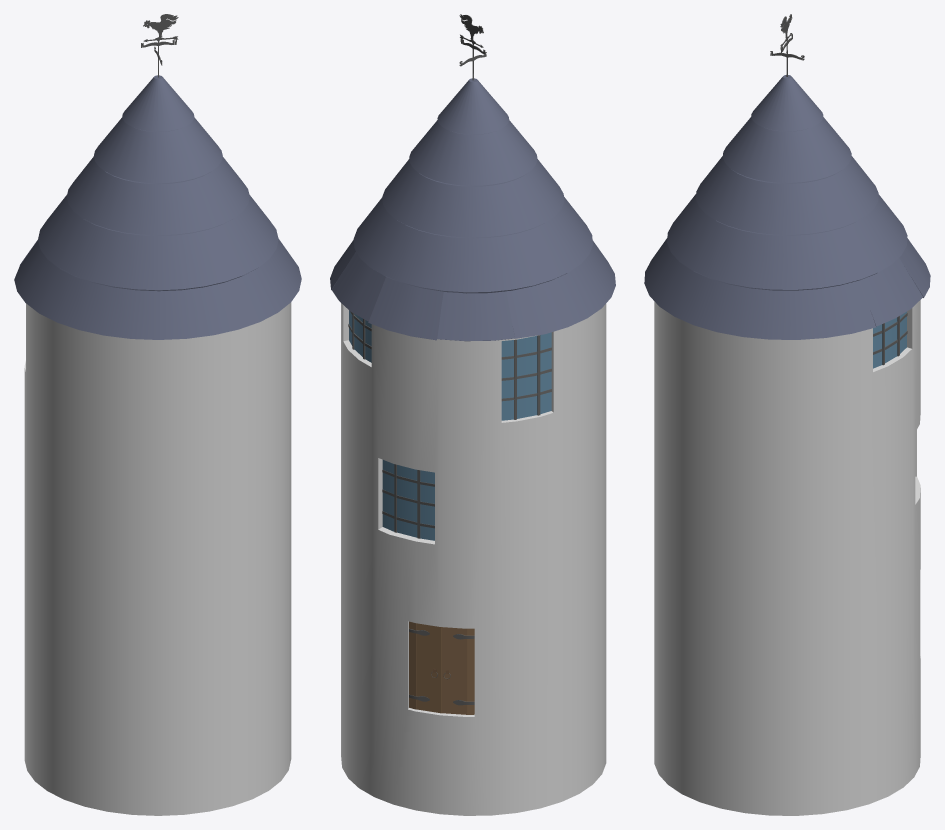
File: Top2.fbx
The picture shows the model from 3 angles, left to right: view 1: azimuth 30°, elevation 25°; view 2: azimuth 150°, elevation 25°; view 3: azimuth 270°, elevation 25°; orthographic projection.
Parts seen in each view (by area): view 1: polySurface1170, polySurface1629, polySurface1630, polySurface1634; view 2: polySurface1170, polySurface1629, polySurface1630, polySurface1633, polySurface1632, polySurface1508, polySurface1507, polySurface1631, polySurface1506, polySurface1509, polySurface1634; view 3: polySurface1170, polySurface1629, polySurface1630, polySurface1631, polySurface1632.
Boxes of the visible parts, box(x1,y1,x2,y2) form: polySurface1170: box(24, 302, 291, 815); polySurface1629: box(38, 75, 278, 291); polySurface1630: box(14, 239, 301, 339); polySurface1634: box(141, 14, 178, 77); polySurface1170: box(341, 303, 606, 815); polySurface1629: box(353, 78, 592, 293); polySurface1630: box(330, 240, 615, 338); polySurface1633: box(437, 291, 514, 341); polySurface1632: box(368, 277, 443, 340); polySurface1508: box(441, 627, 467, 714); polySurface1507: box(416, 623, 441, 713); polySurface1631: box(332, 252, 385, 321); polySurface1506: box(409, 621, 416, 709); polySurface1509: box(467, 628, 474, 714); polySurface1634: box(459, 14, 486, 80); polySurface1170: box(654, 300, 920, 815); polySurface1629: box(667, 75, 907, 290); polySurface1630: box(644, 238, 875, 339); polySurface1631: box(860, 258, 922, 326); polySurface1632: box(899, 238, 930, 297).
Size of the model in its own units: 61.93 by 177 by 61.71.
